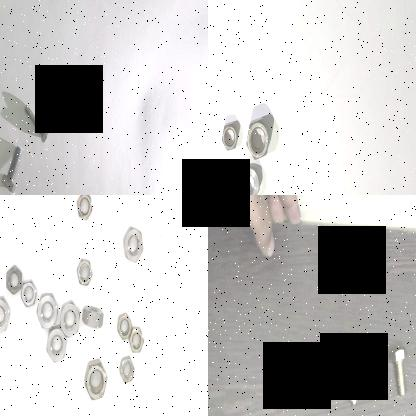Bolts: (22, 99, 48, 147), (0, 140, 23, 194), (390, 345, 410, 395)
NUTS: (244, 115, 272, 163), (82, 354, 107, 406), (32, 285, 60, 331), (57, 294, 81, 339), (120, 222, 144, 264), (44, 325, 68, 365), (235, 162, 263, 195), (78, 300, 106, 330), (220, 118, 240, 156), (3, 260, 24, 296), (117, 352, 137, 386), (16, 278, 38, 308), (126, 324, 144, 356), (76, 256, 94, 286), (74, 195, 93, 220), (0, 295, 11, 337), (116, 311, 132, 339)
